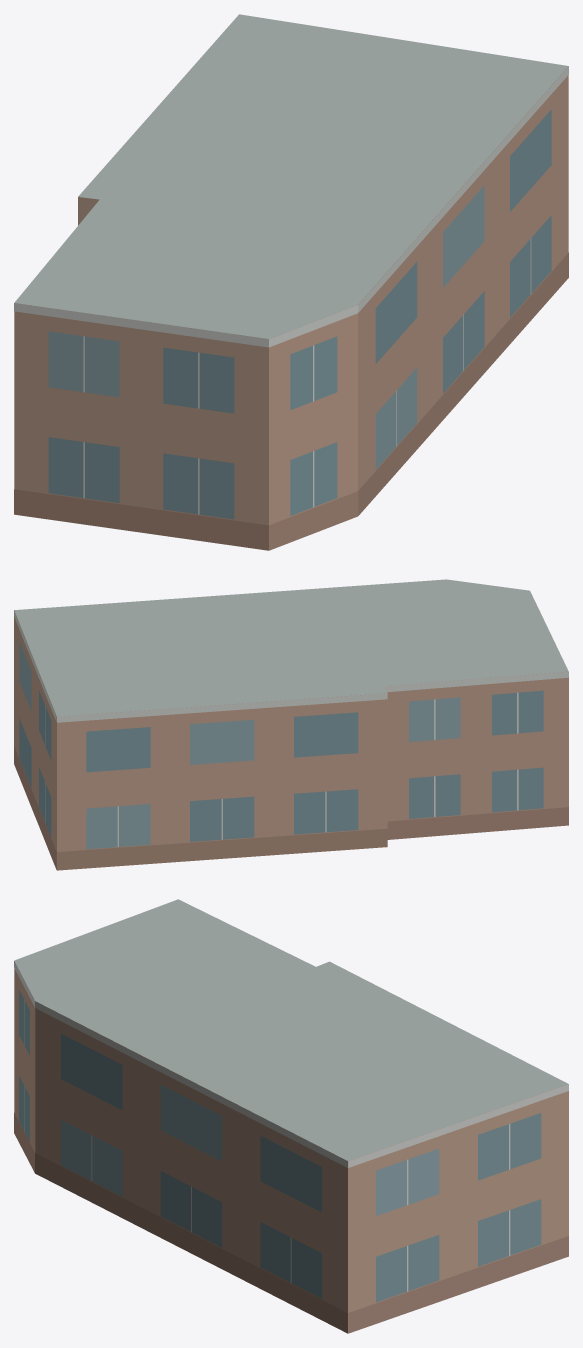
Rendered from survey-upis-32779671.glb.
3 views of the same model, one above another, from view 1: azimuth 30°, elevation 25°; view 2: azimuth 150°, elevation 25°; view 3: azimuth 270°, elevation 25° (orthographic). The views are drawn at different scales.
Parts seen in each view (by area): view 1: survey-upis-32779671.tmp; view 2: survey-upis-32779671.tmp; view 3: survey-upis-32779671.tmp.
Part boxes in pixels (x1,y1,x2,y2): survey-upis-32779671.tmp: (14, 14, 568, 550); survey-upis-32779671.tmp: (14, 579, 568, 870); survey-upis-32779671.tmp: (14, 899, 568, 1333).
Size of the model in its own units: 19.88 by 6.1 by 17.79.
